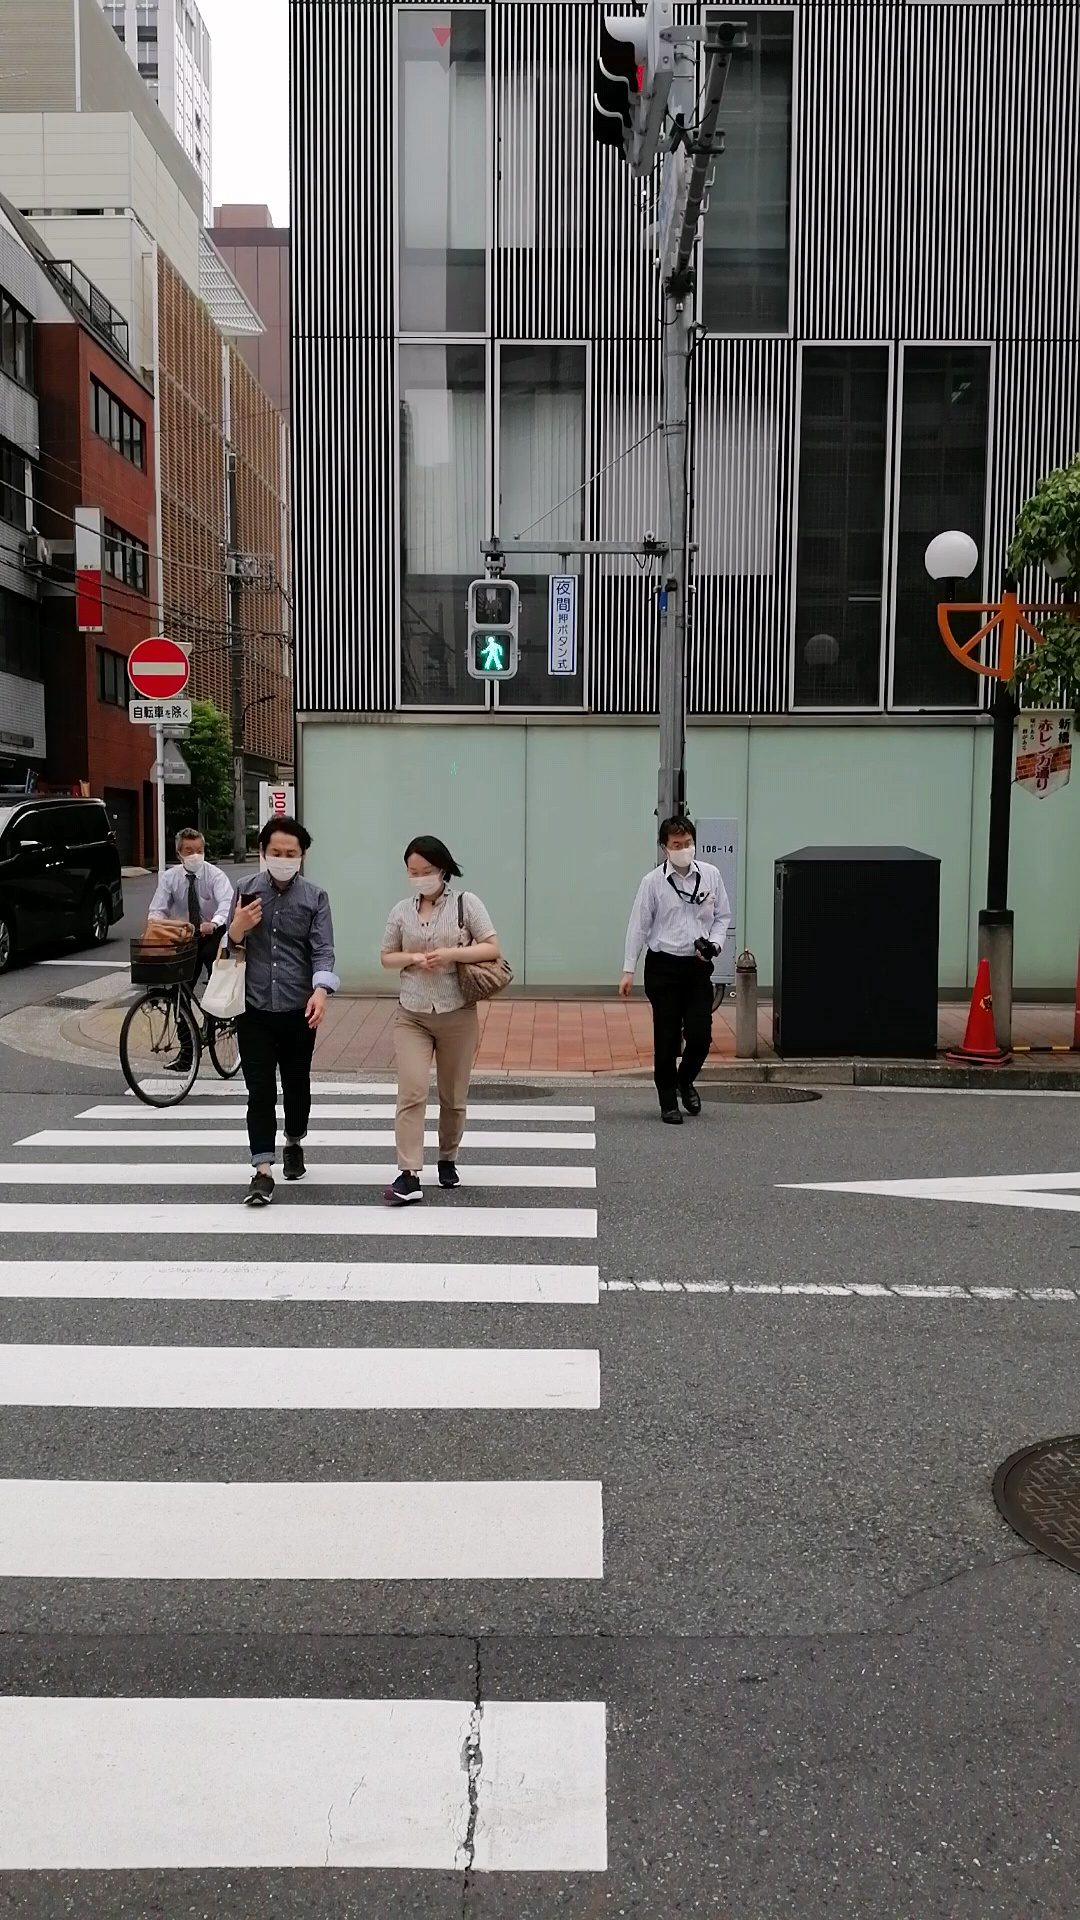green: (465, 578, 518, 679)
